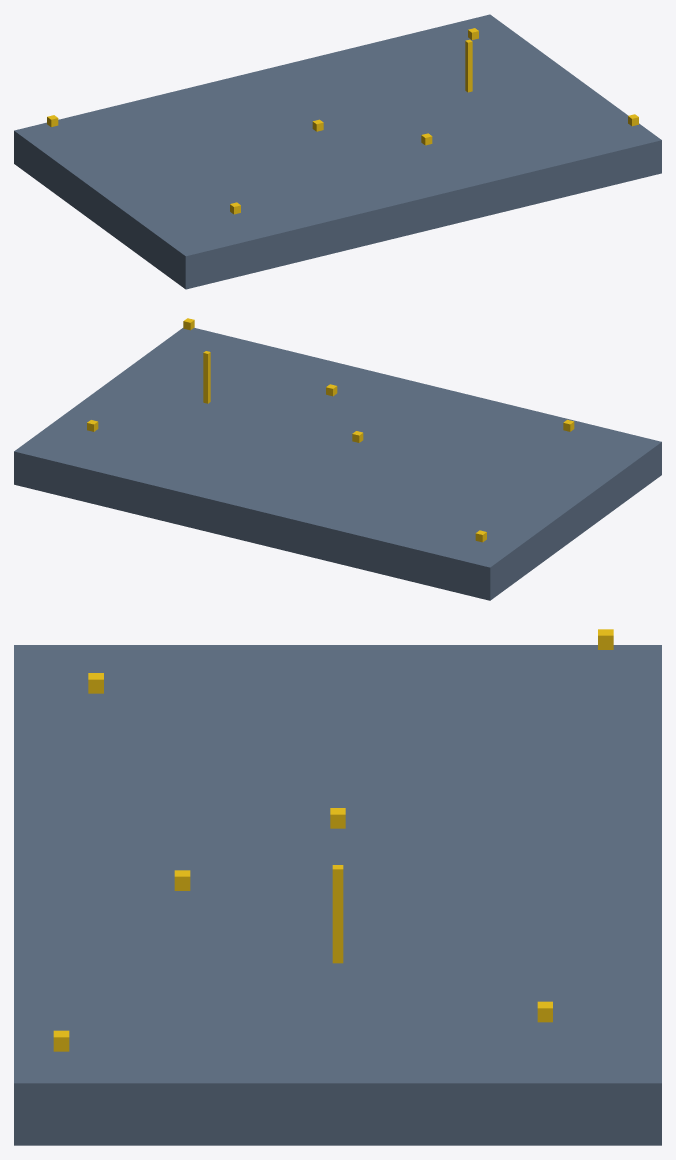
File: three-small-parts.glb
The picture shows the model from 3 angles, top to bottom: view 1: azimuth 30°, elevation 25°; view 2: azimuth 150°, elevation 25°; view 3: azimuth 270°, elevation 25°; orthographic projection. The views are drawn at different scales.
Visible parts, largest first — view 1: main_plate, thin_alignment_pin; view 2: main_plate; view 3: main_plate, thin_alignment_pin.
Boxes of the visible parts, x1,y1,x2,y2 form: main_plate: (14,14,661,289); thin_alignment_pin: (465,39,472,92); main_plate: (14,327,661,600); main_plate: (14,645,661,1145); thin_alignment_pin: (332,865,343,963).
Size of the model in its own units: 1.2 by 0.23 by 0.75.
